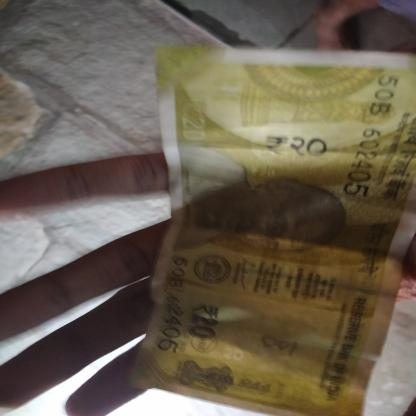New20Front: (149, 49, 416, 416)
